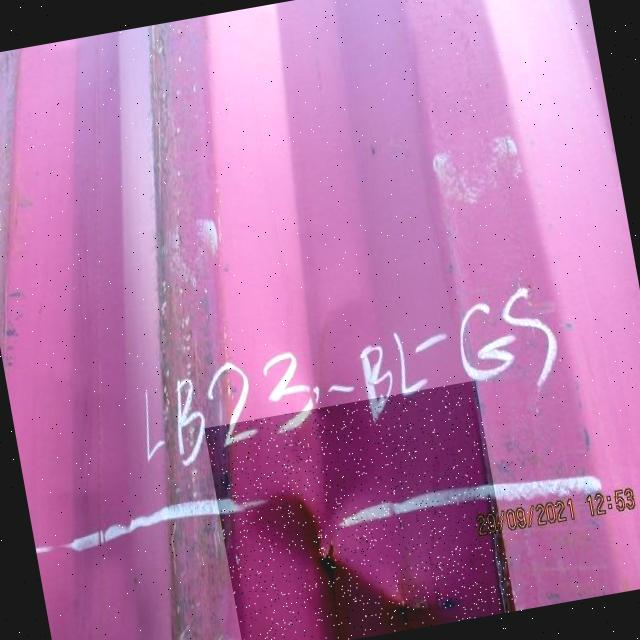Dent: (204, 380, 515, 640)
